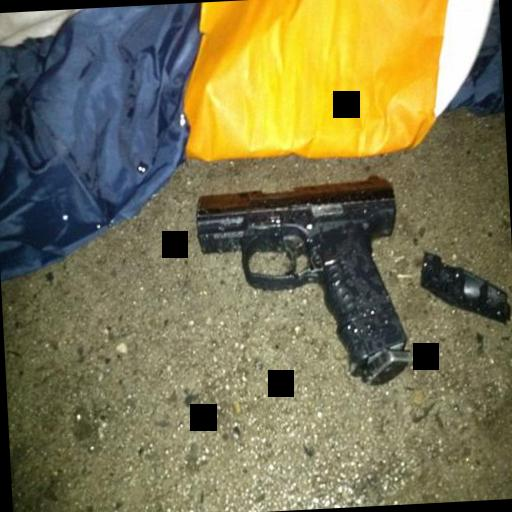Handgun: (188, 171, 420, 397)
